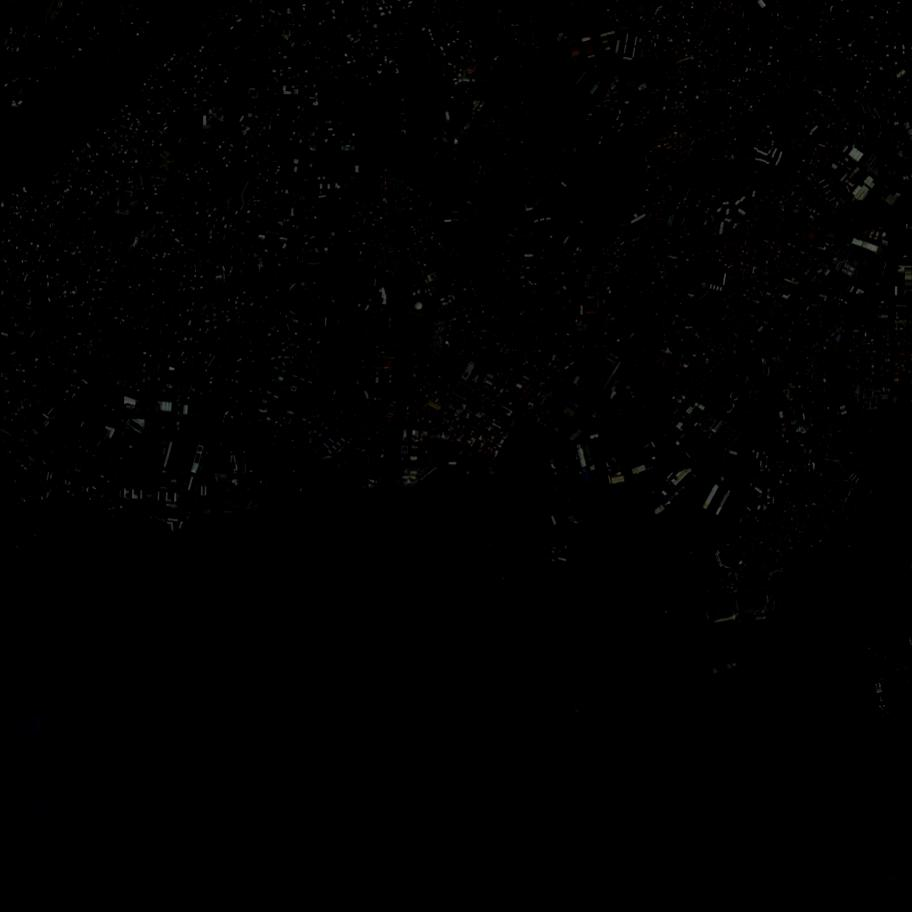ship: (709, 628, 726, 666), (709, 662, 741, 679), (771, 619, 790, 643), (561, 459, 572, 478)
